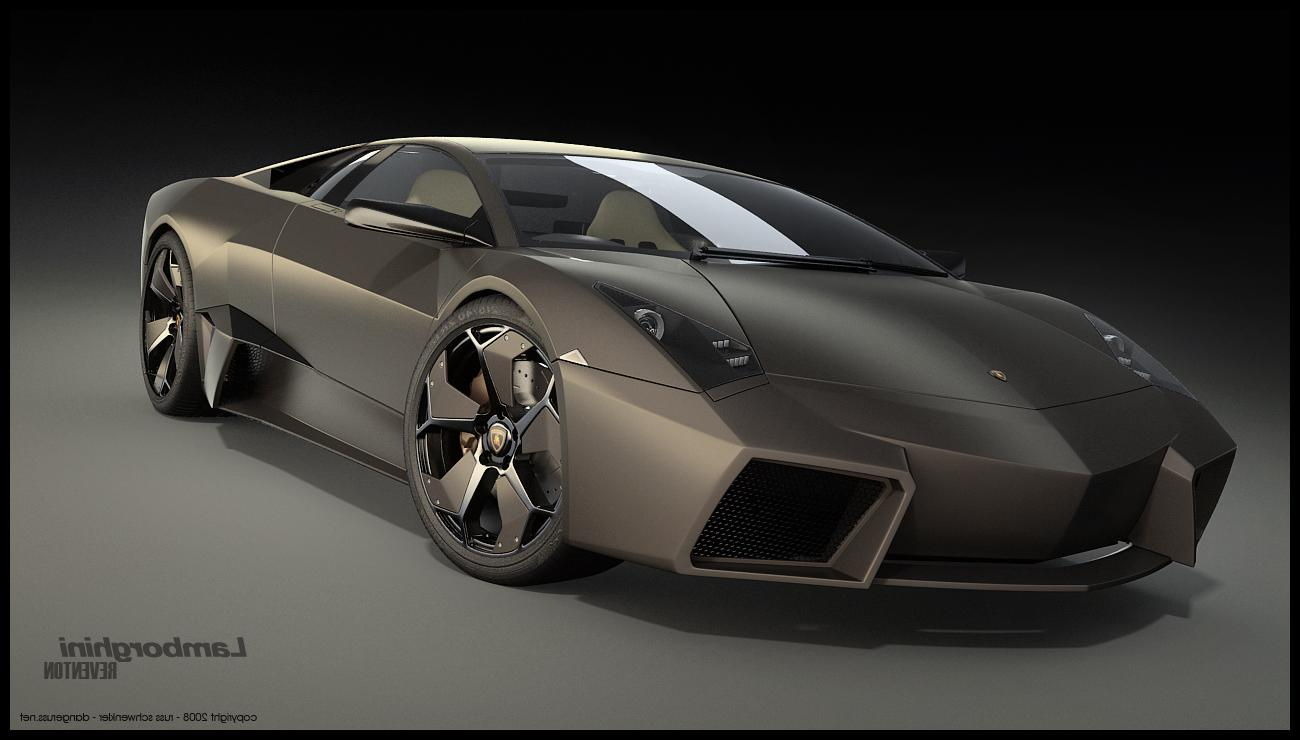Car: (93, 105, 1256, 659)
